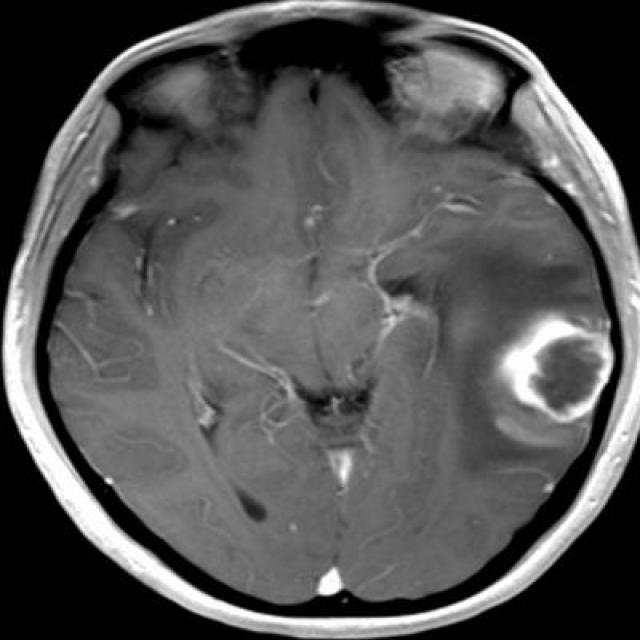Tumor-Cell: (505, 275, 604, 408)
